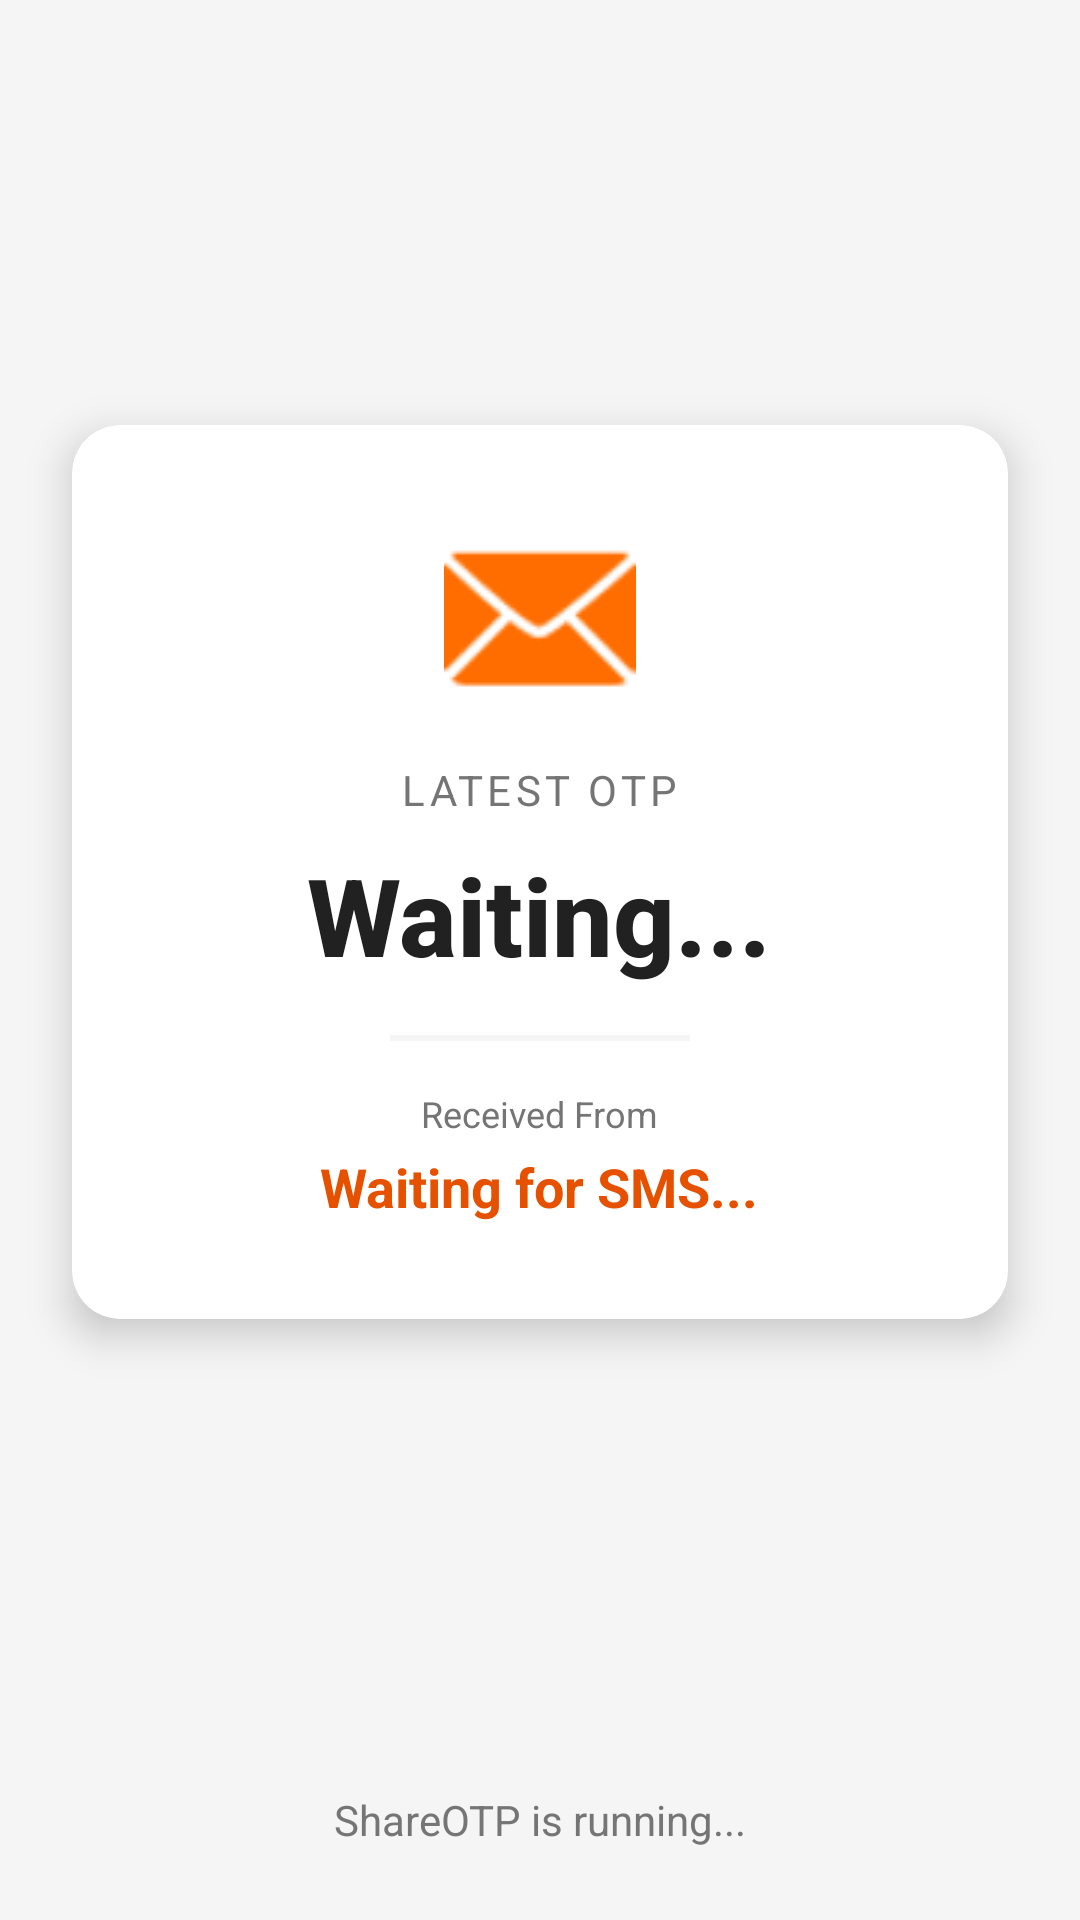

Icon bounding boxes for this 1080px×1920px phone screenshot, format [x1,y1,x2,y2]:
email: [444,550,636,687]
